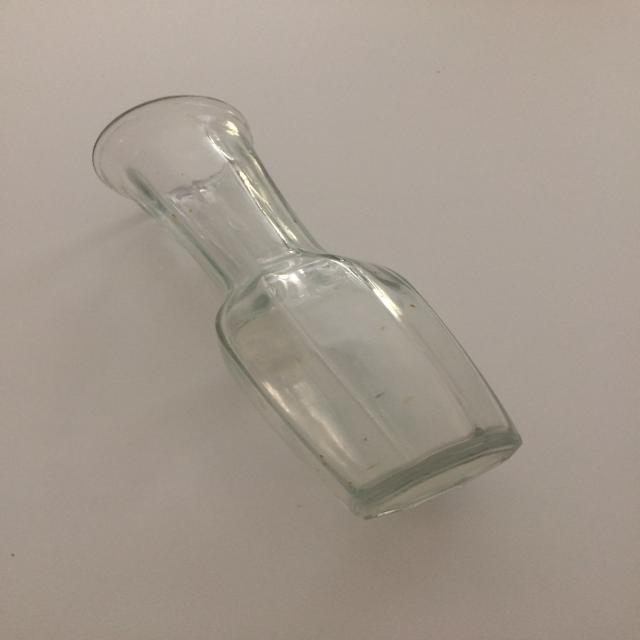Glass: (68, 87, 551, 521)
